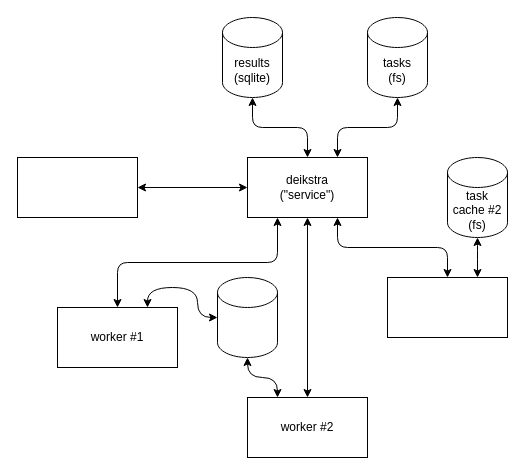
Some shapes in this 525 by 475 pixel diagram are drawn without their labels. The centre of each missing label's shape, as x and y in pixels:
task cache #1 (fs): point (247, 317)
website ("client"): point (77, 187)
worker #3: point (447, 307)
